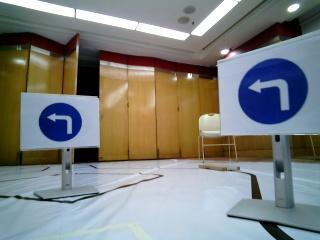left: (222, 51, 320, 128), (24, 94, 97, 148)
